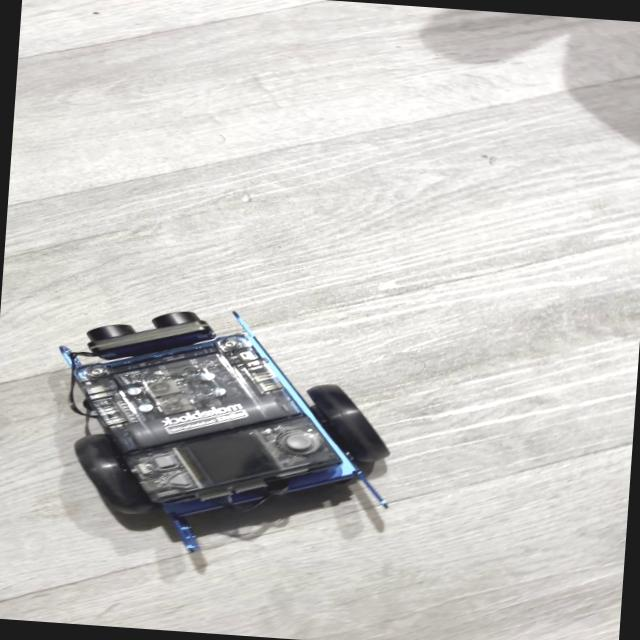mbot-detection: (36, 295, 409, 580)
